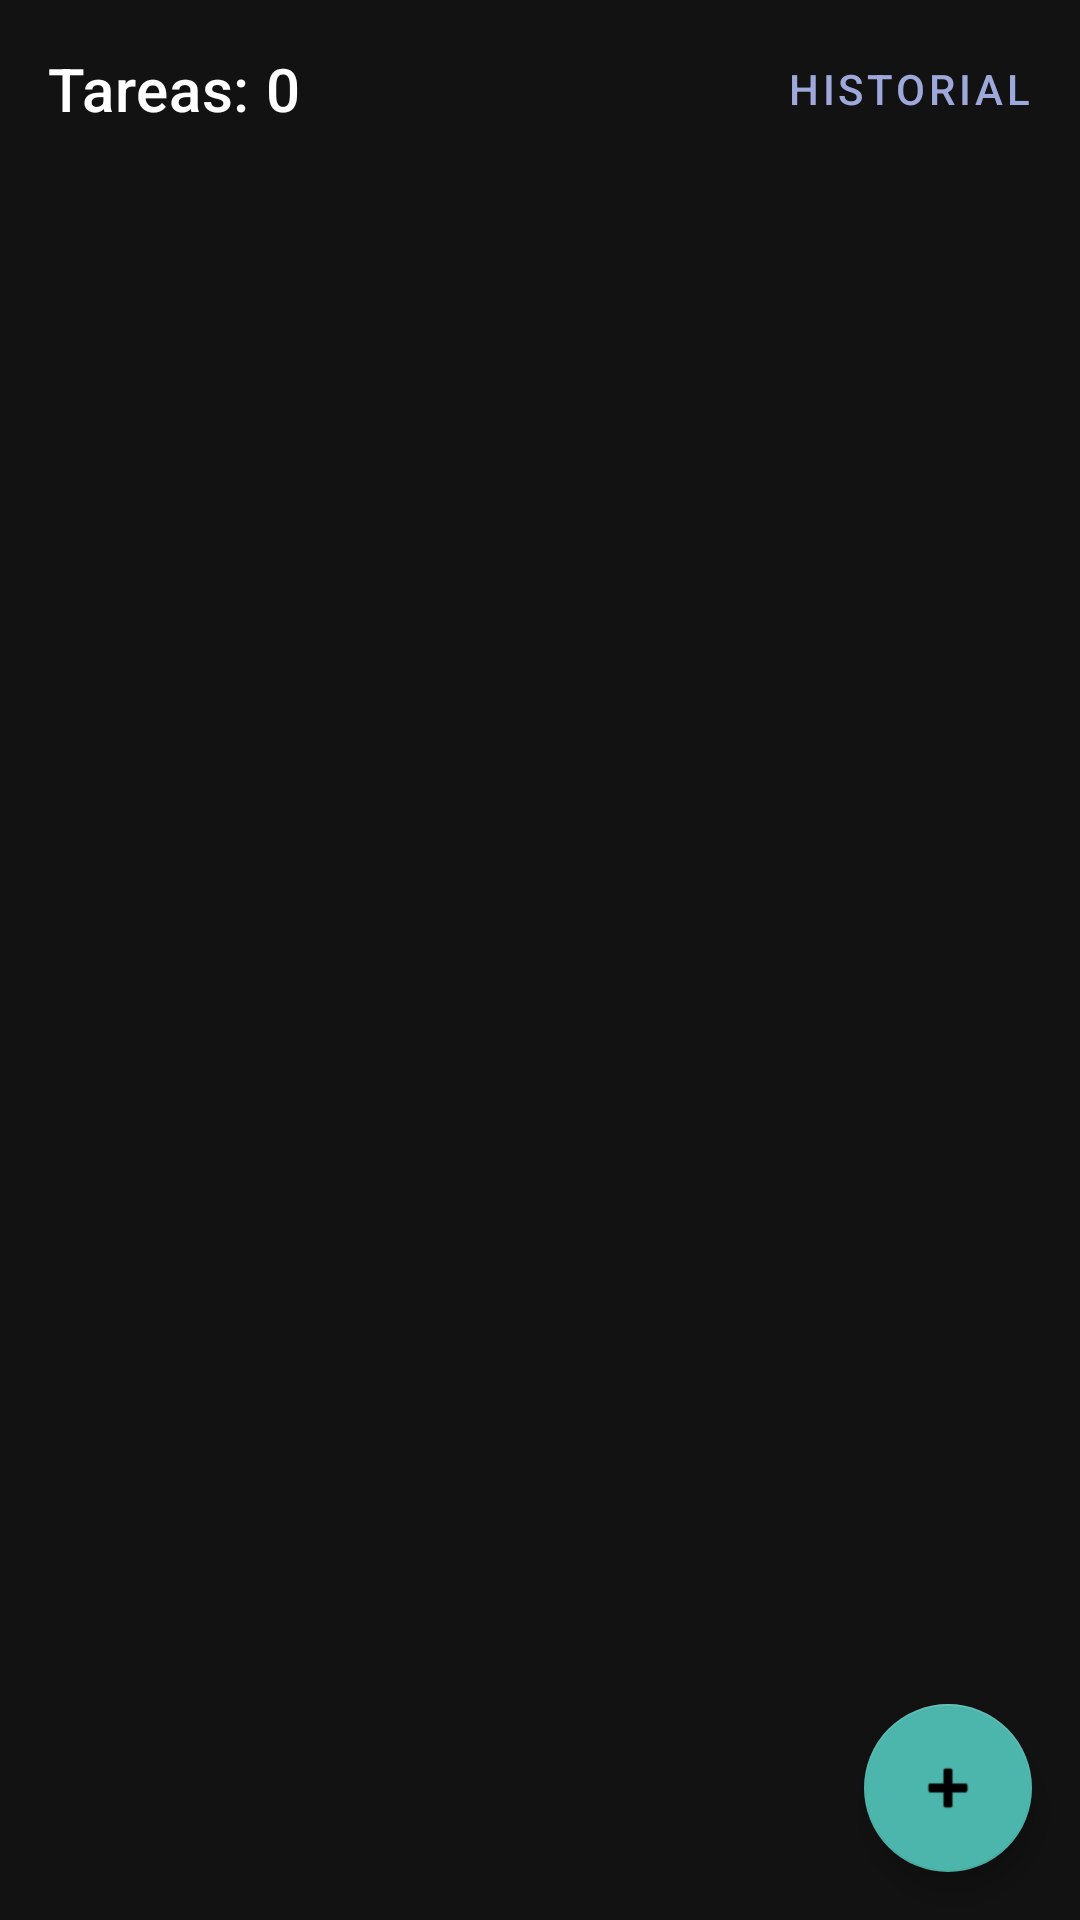

Icons on this 1080×1920 Android screen, each with the point to tap as (x,y):
Agregar tarea: (948,1788)
